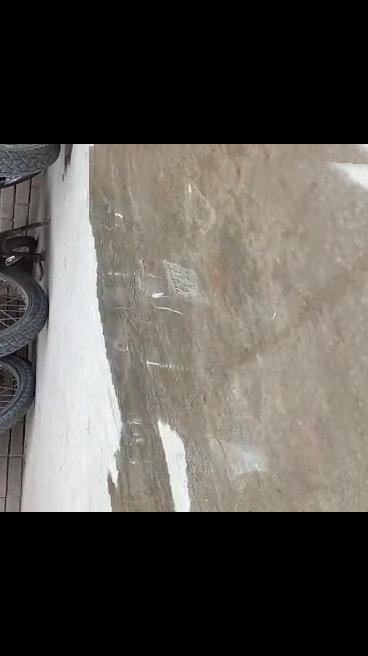water accumulation: (88, 144, 368, 512)
